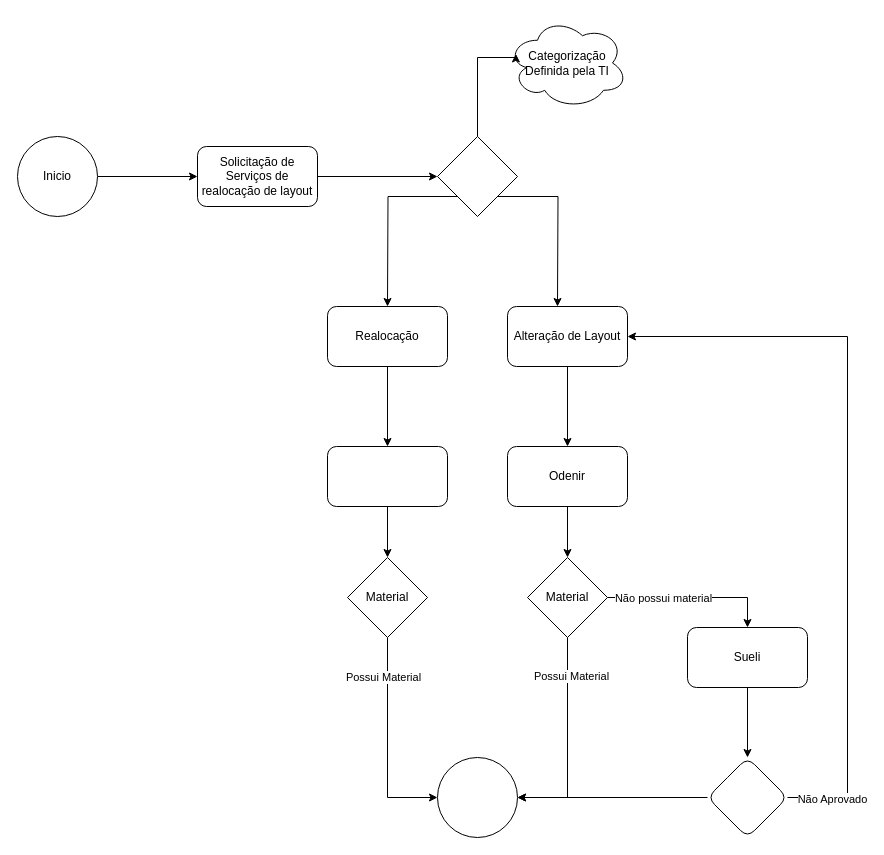
The diagram is 884 pixels wide and 855 high, and some of its shapes have lost their labels. The shapes that lost their labels are listed below. From the top down, each one's centre as x and y in pixels, then its label:
(x=477, y=176): tipo de solicitação ()
(x=387, y=476): Ti
(x=477, y=797): Execução
(x=747, y=797): Compra
